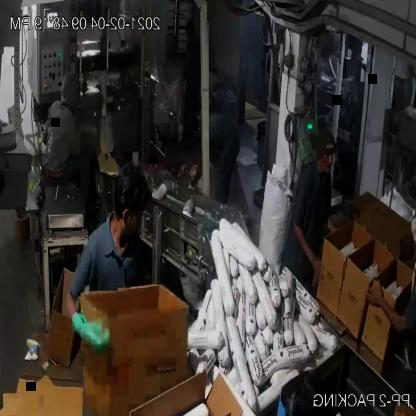glove: (64, 294, 112, 370)
no_glove: (286, 208, 338, 280), (362, 272, 410, 348), (186, 142, 212, 191), (176, 39, 191, 100)
